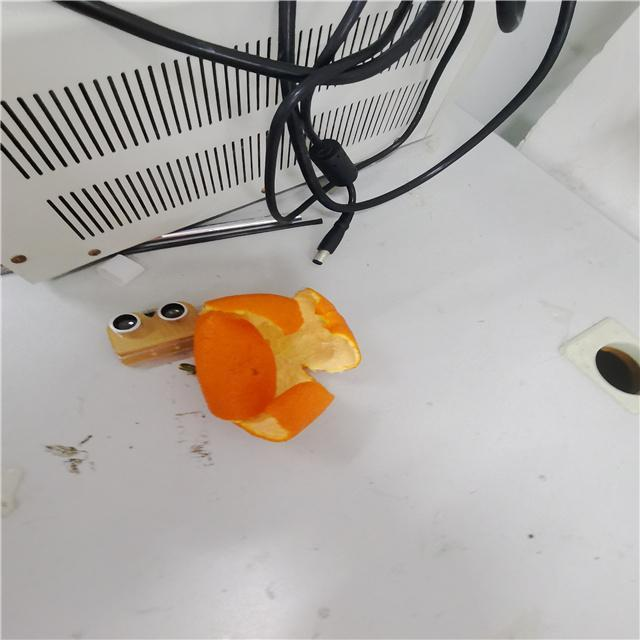orange peel: (183, 280, 365, 446)
